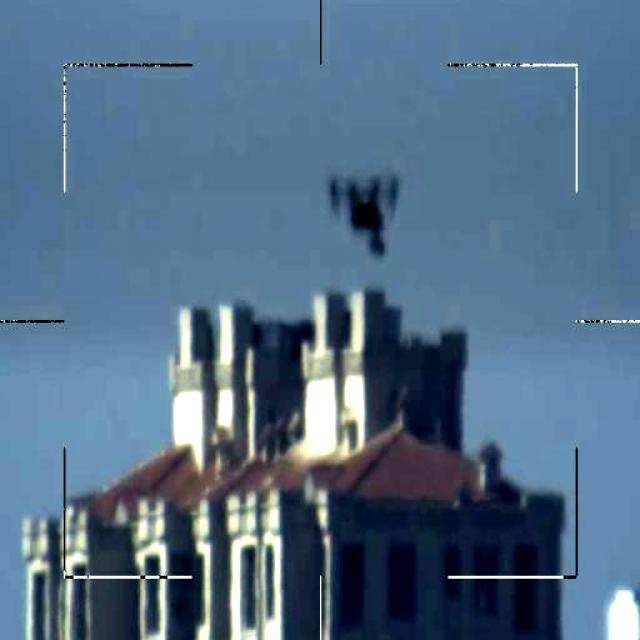bird: (324, 170, 406, 256)
